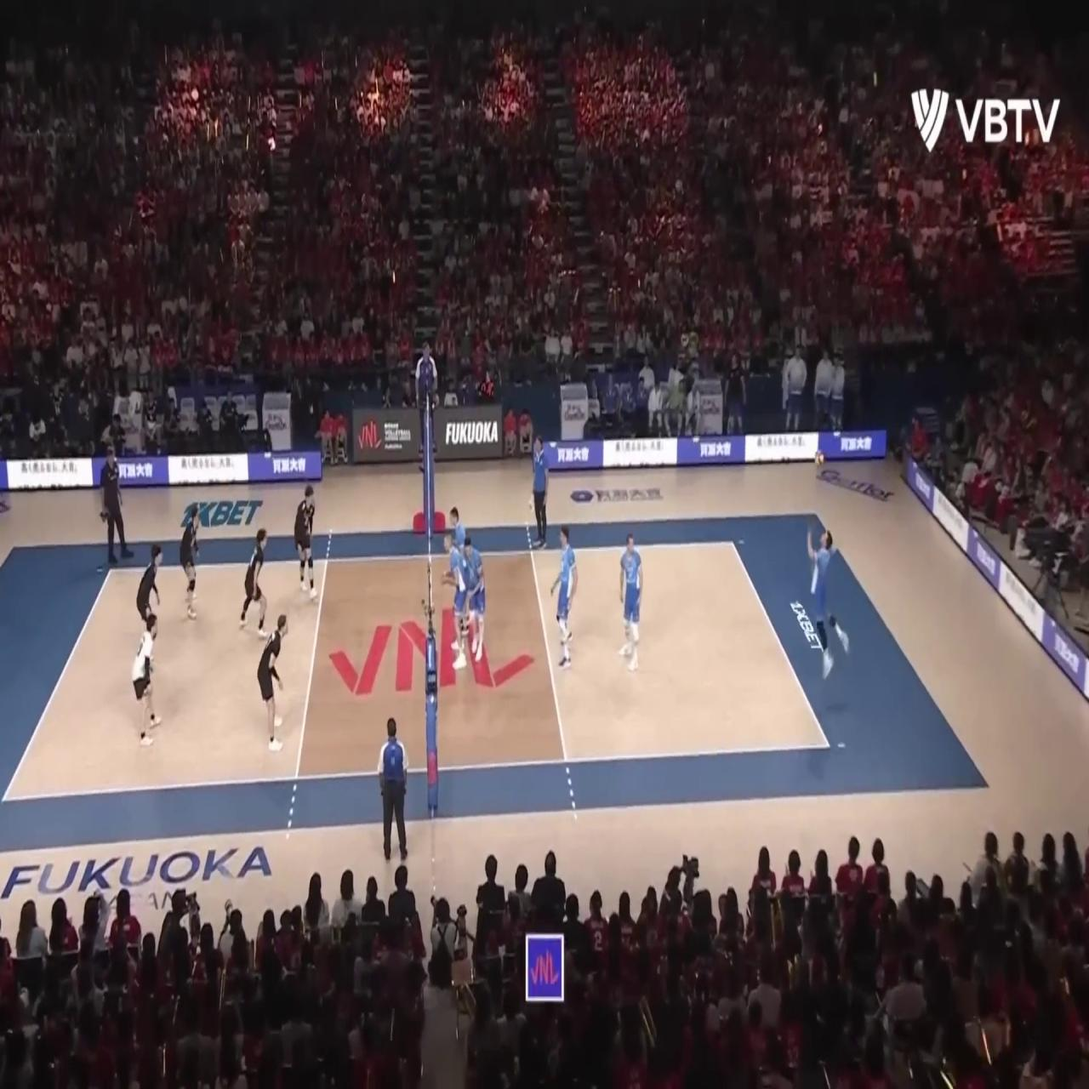ball: (815, 451, 825, 467)
